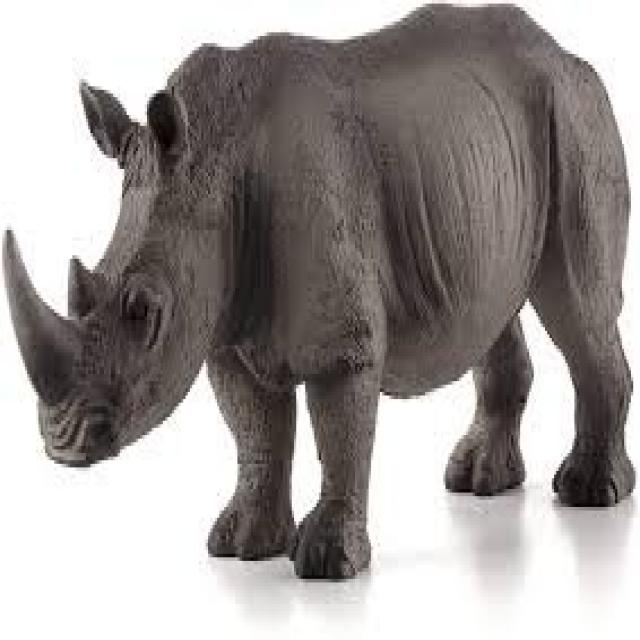Rinoceros: (0, 0, 640, 586)
